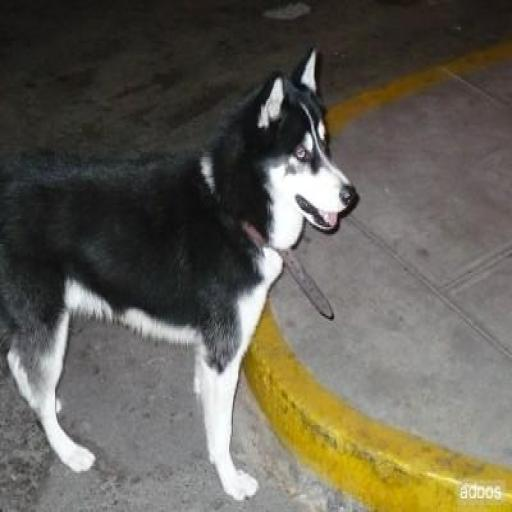dog_face: (263, 48, 359, 242)
